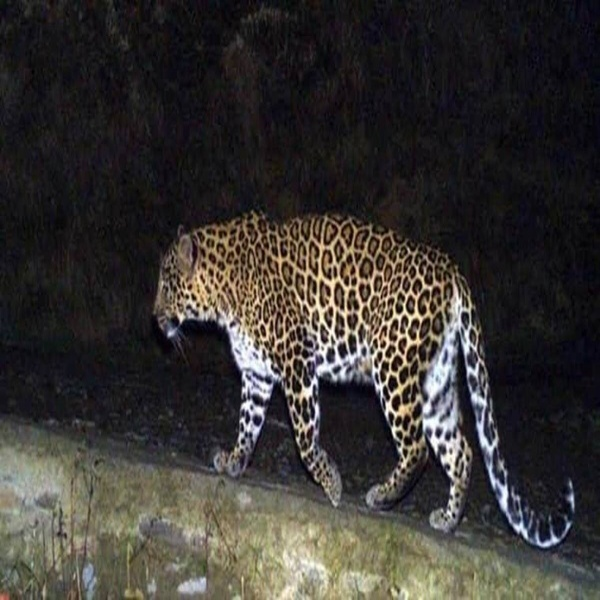Leopard: (146, 205, 578, 554)
